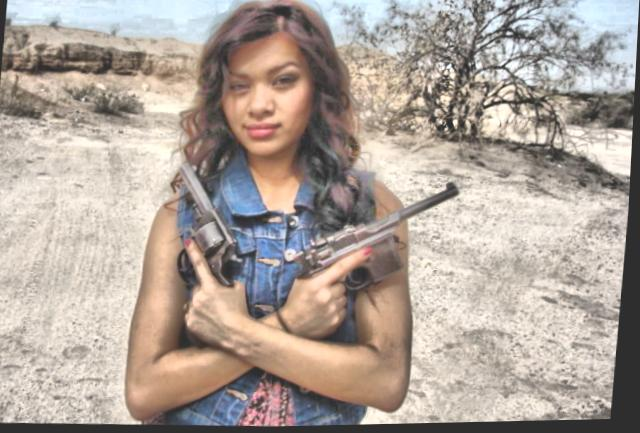pistol: (292, 178, 465, 302), (165, 159, 255, 352)
